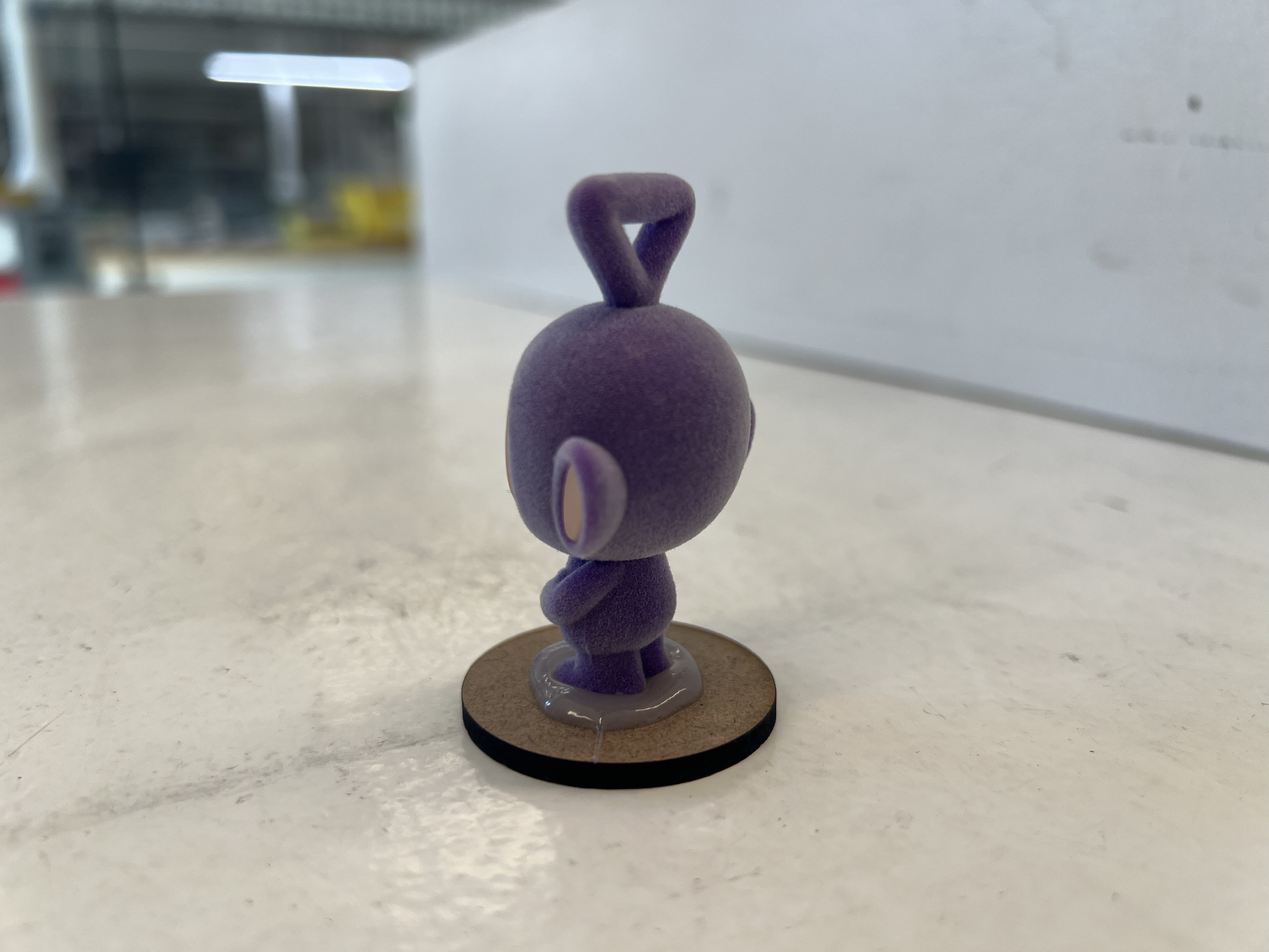teletubby: (507, 173, 754, 693)
